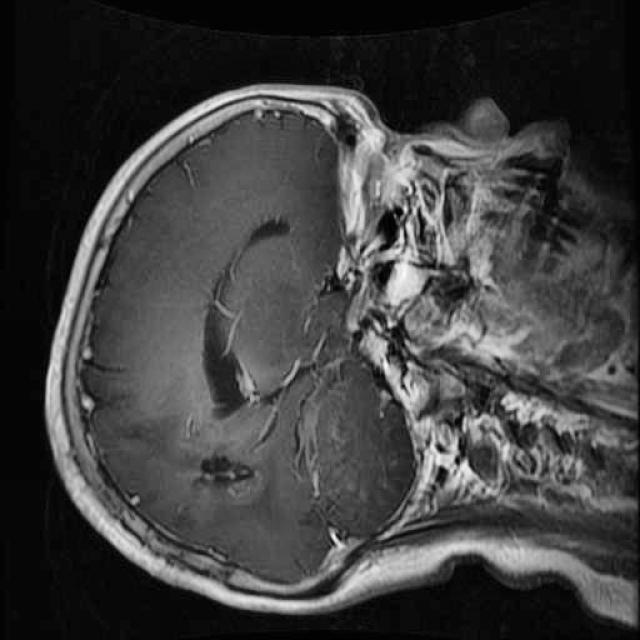Tumor: (184, 440, 276, 515)
